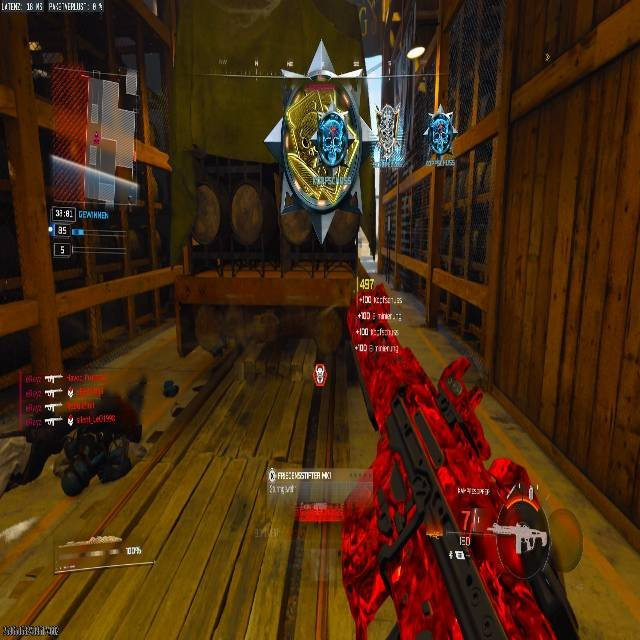head: (58, 465, 90, 496)
player: (421, 110, 455, 165)
